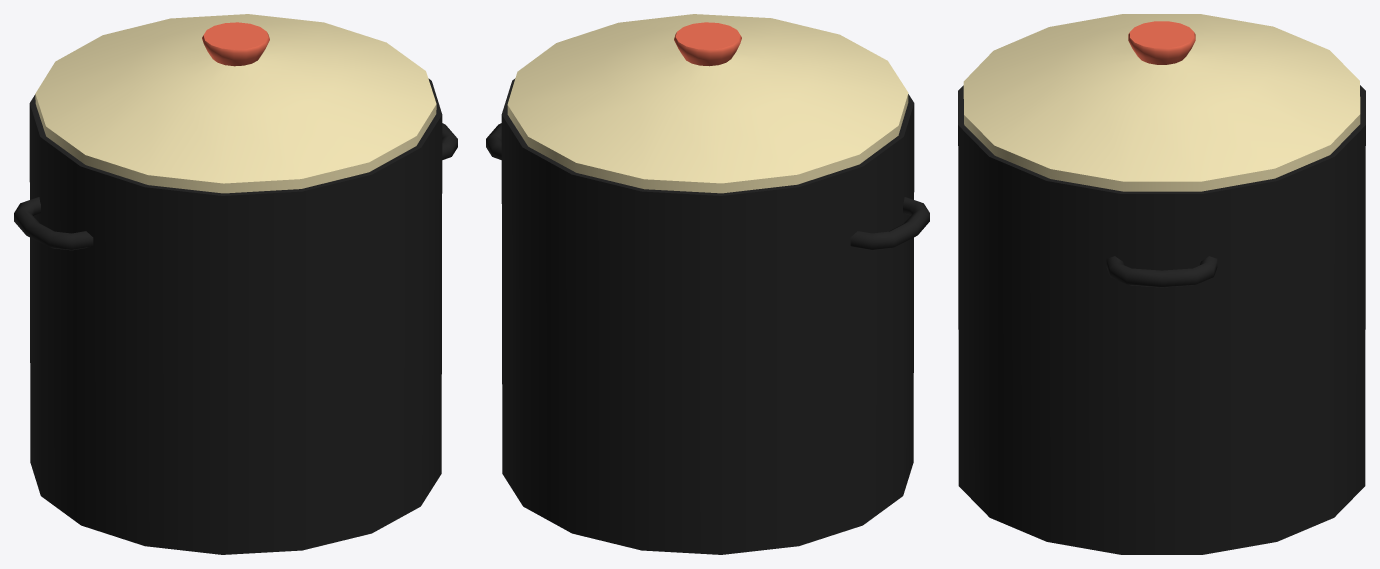
File: LP_pot2.obj
3 views of the same model, side by side, from view 1: azimuth 30°, elevation 25°; view 2: azimuth 150°, elevation 25°; view 3: azimuth 270°, elevation 25° (orthographic).
Visible parts, largest first — view 1: LP_pot2.001, LP_pot2_lid.001; view 2: LP_pot2.001, LP_pot2_lid.001; view 3: LP_pot2.001, LP_pot2_lid.001.
Part boxes in pixels (<box>): LP_pot2.001: <box>14,78,457,554</box>; LP_pot2_lid.001: <box>35,14,436,193</box>; LP_pot2.001: <box>486,78,929,554</box>; LP_pot2_lid.001: <box>507,14,908,193</box>; LP_pot2.001: <box>958,85,1365,554</box>; LP_pot2_lid.001: <box>963,14,1360,191</box>.
Bounding box in the file's own units: 0.4347 × 0.4278 × 0.364.
